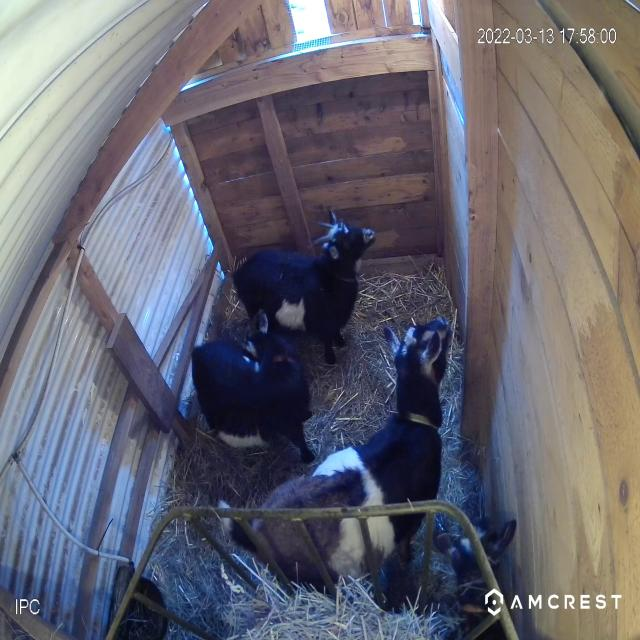goat: (194, 306, 458, 624), (222, 196, 384, 358), (169, 324, 329, 476), (429, 489, 519, 640)
